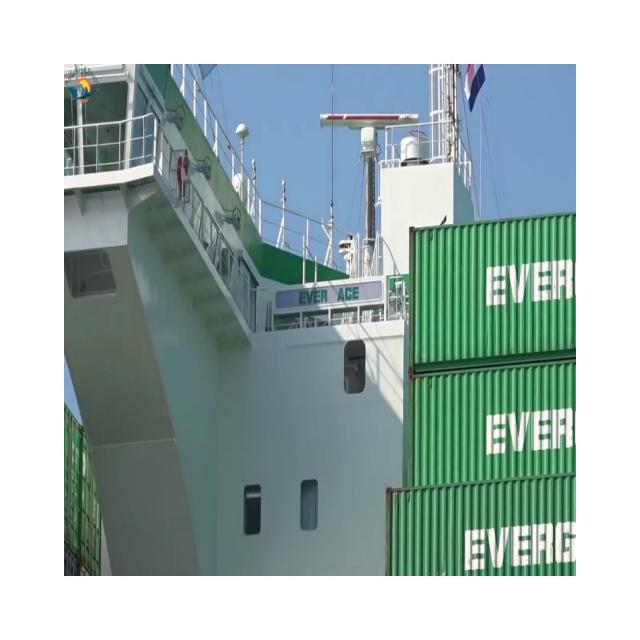OCR: (292, 282, 370, 312)
